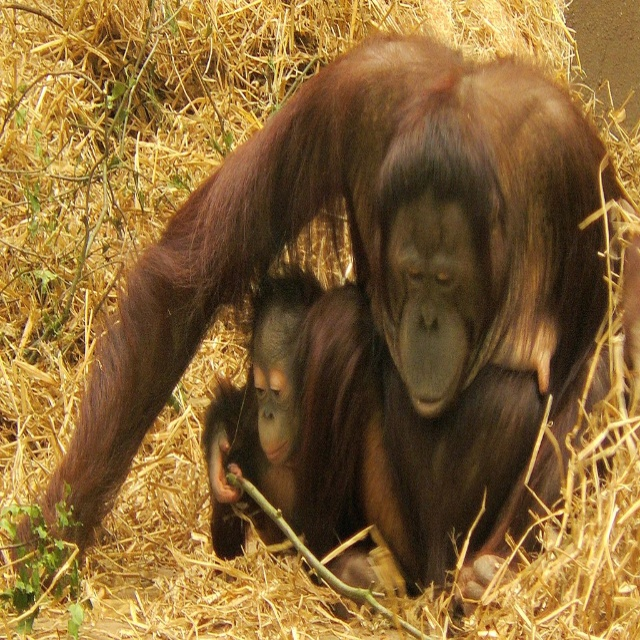Monkey: (64, 30, 640, 604)
